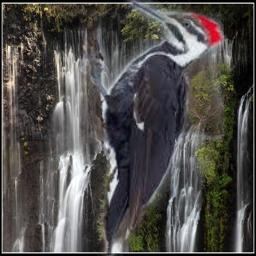Woodpecker: (79, 0, 224, 256)
